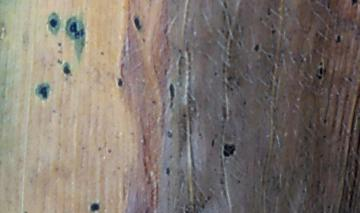tarspot: (65, 17, 85, 49), (35, 84, 50, 100), (49, 13, 60, 33), (222, 144, 236, 159), (317, 61, 326, 80), (169, 83, 175, 105), (133, 17, 142, 30), (63, 63, 71, 77), (90, 203, 99, 211), (252, 44, 260, 53), (57, 56, 64, 65), (181, 112, 189, 119), (118, 79, 124, 88), (336, 35, 342, 44), (267, 7, 272, 17), (226, 75, 233, 82), (210, 139, 216, 147), (351, 1, 360, 6), (107, 148, 113, 155), (347, 76, 353, 83), (267, 53, 273, 60), (223, 1, 228, 9), (57, 41, 63, 47), (99, 49, 105, 55), (151, 99, 157, 105), (241, 100, 247, 106), (322, 134, 327, 141), (168, 131, 172, 139), (166, 168, 170, 175), (322, 119, 327, 124), (207, 196, 212, 201), (201, 204, 206, 209), (272, 29, 276, 34)
